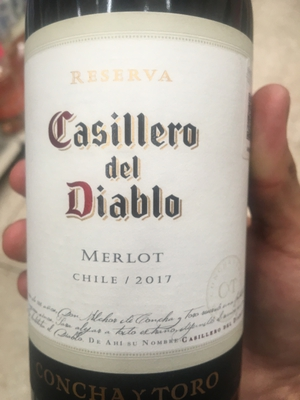casillero del diablo merlot: (21, 3, 251, 400)
